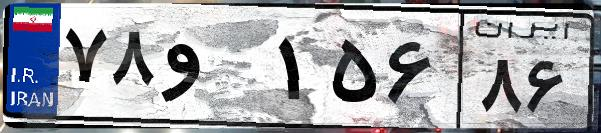1: (270, 28, 330, 110)
5: (330, 28, 385, 110)
6: (385, 28, 445, 110), (525, 38, 570, 115)
7: (57, 26, 110, 100)
8: (475, 38, 525, 113), (110, 28, 158, 98)
و: (158, 20, 270, 120)
